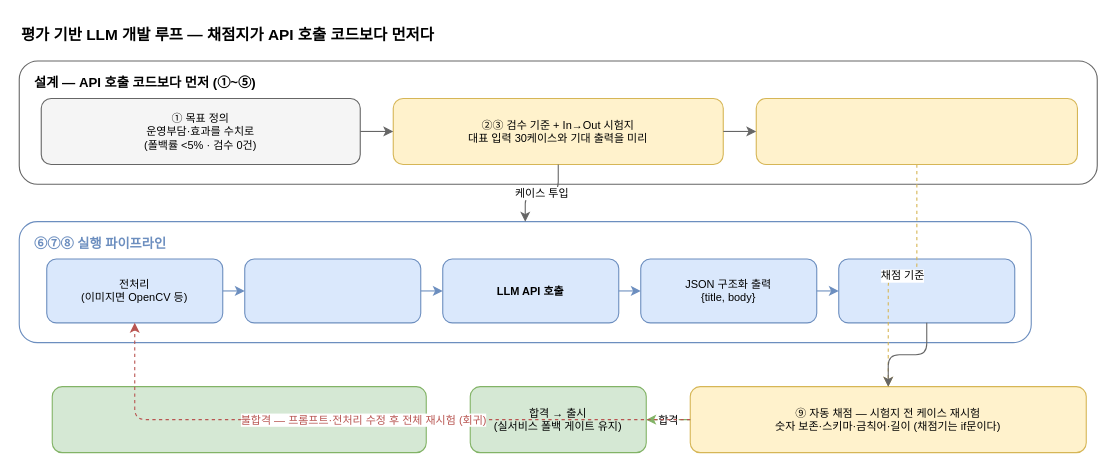
The diagram is 1117 pixels wide and 472 high, and some of its shapes have lost their labels. Here are the shapes that lost their labels. From the top down, the centre of each, then its label:
At (916,130): "④⑤ 채점지 + 벤치마크 시트(엑셀) 행=케이스 · 열=프롬프트 버전별 점수".
At (332,290): "프롬프트 조립 숫자는 코드가 계산해 넣음".
At (926,290): "후처리·파싱 긴 응답에서 조각 추출".
At (238,419): "⑩ 임팩트 측정 목표 대비 실측 — 폴백률·열람률·검수 시간 수치로 답 못 하면 비용만 넣은 것".
